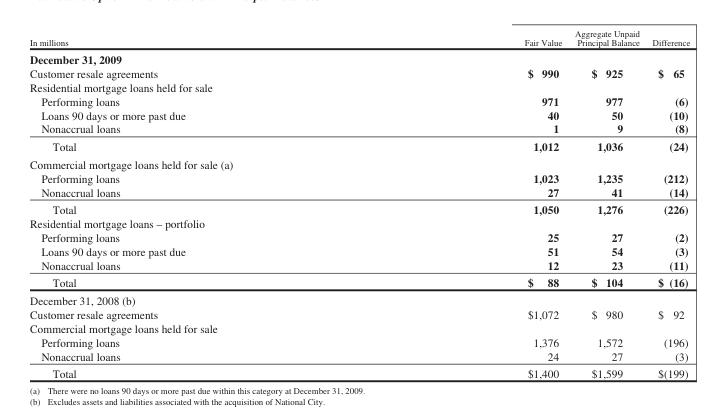table: (29, 28, 689, 379)
table column: (29, 28, 354, 379), (354, 28, 567, 379), (567, 28, 645, 379), (645, 28, 689, 379)
table column header: (29, 28, 689, 49)
table projected row header: (29, 49, 689, 65), (29, 291, 689, 307), (29, 155, 689, 170), (29, 79, 689, 93), (29, 216, 689, 230), (29, 321, 689, 334)
table row: (29, 28, 689, 49), (29, 137, 689, 155), (29, 273, 689, 291), (29, 49, 689, 65), (29, 121, 689, 137), (29, 184, 689, 200), (29, 200, 689, 216), (29, 257, 689, 273), (29, 291, 689, 307), (29, 348, 689, 364), (29, 155, 689, 170), (29, 364, 689, 379), (29, 65, 689, 79), (29, 79, 689, 93), (29, 93, 689, 107), (29, 107, 689, 121), (29, 170, 689, 184), (29, 216, 689, 230), (29, 243, 689, 257), (29, 307, 689, 321), (29, 334, 689, 348), (29, 230, 689, 243), (29, 321, 689, 334)
